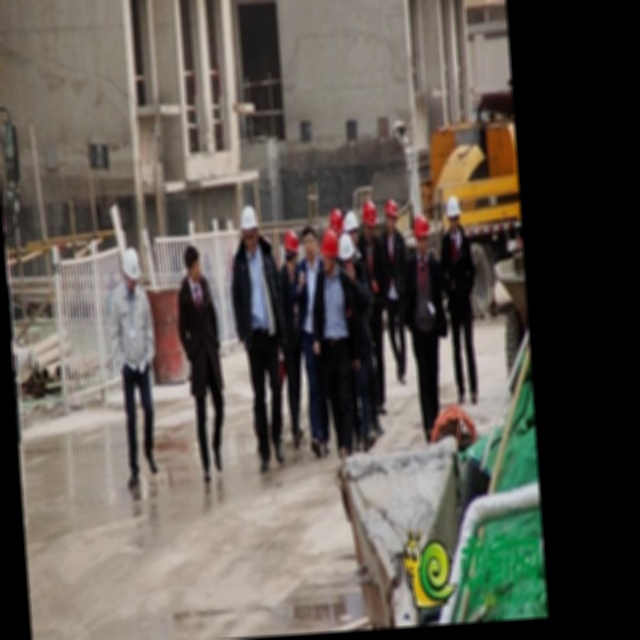Con_Casco: (239, 205, 262, 254), (122, 247, 143, 294)
Sin_Casco_Mascarrilla: (183, 245, 203, 287), (301, 224, 320, 261)
